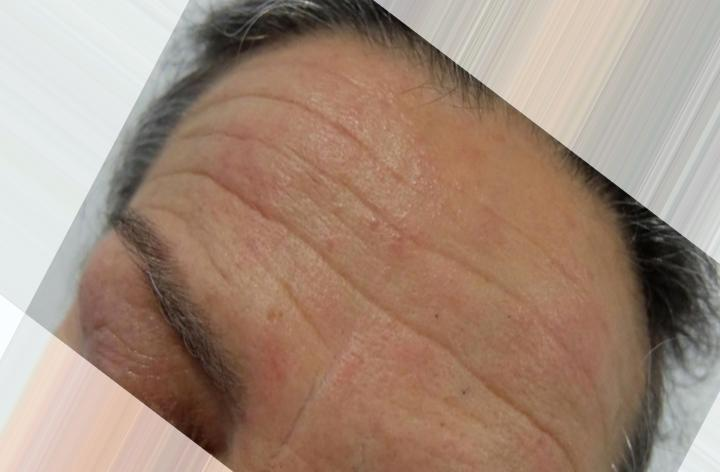Contact Dermatitis: (223, 179, 589, 375)
